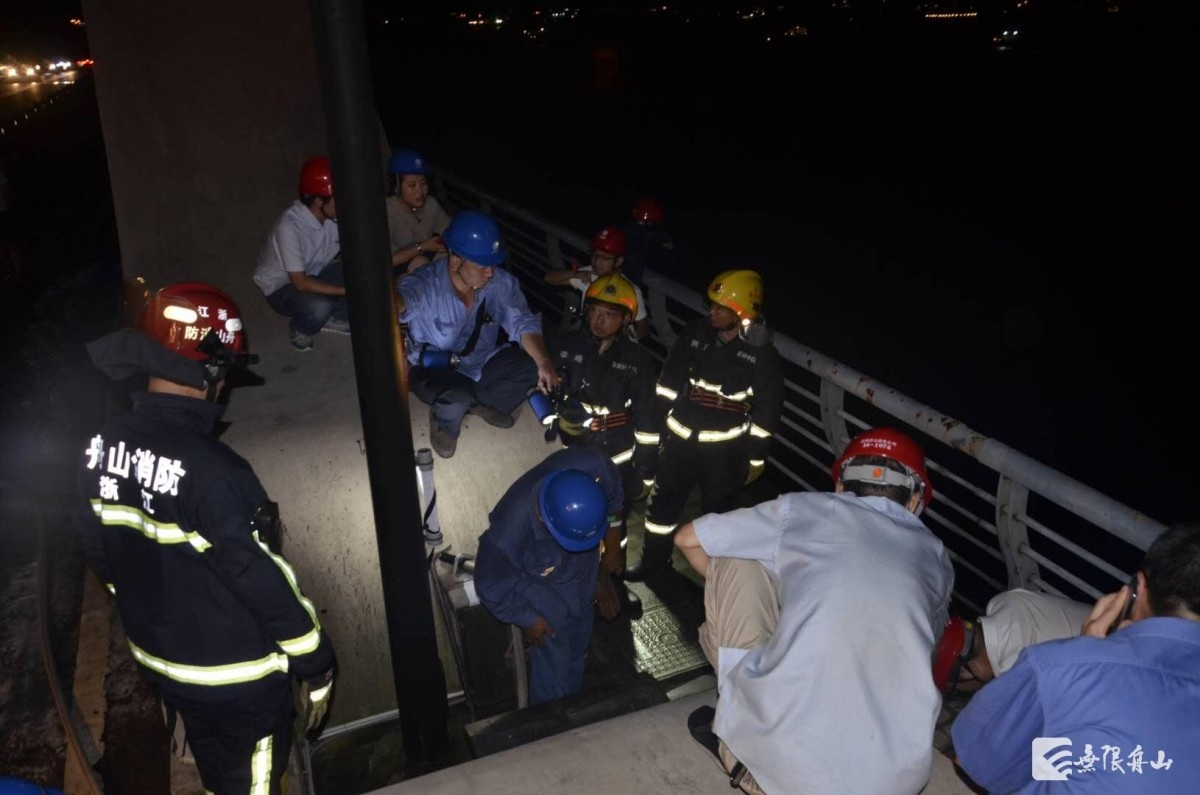blue: (531, 466, 611, 553), (443, 211, 506, 286), (387, 148, 433, 208)
red: (136, 283, 250, 409), (833, 428, 929, 515), (928, 603, 998, 693), (298, 155, 340, 219), (587, 226, 630, 276)
yellow: (583, 272, 639, 340), (707, 268, 764, 330)
